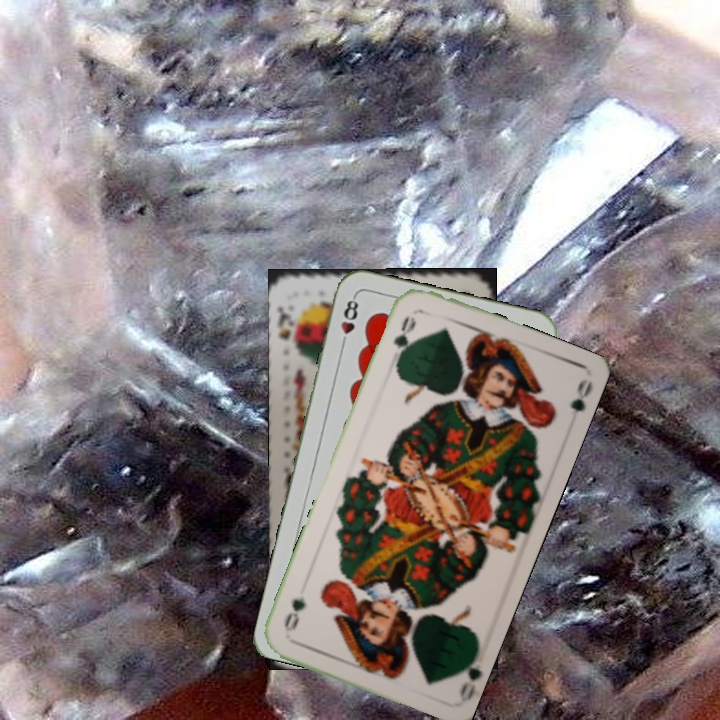GO: (451, 645, 482, 703), (389, 311, 419, 365)
H8: (337, 293, 361, 351)
SK: (275, 302, 302, 353)
